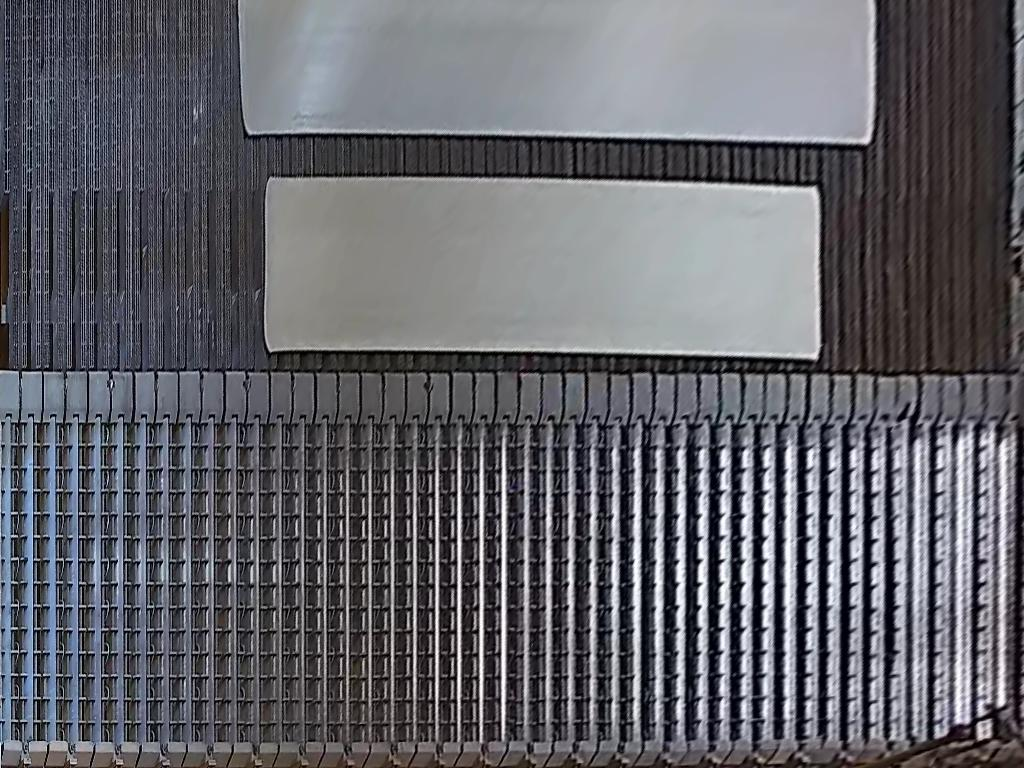steel: (259, 177, 822, 362), (240, 1, 873, 146)
